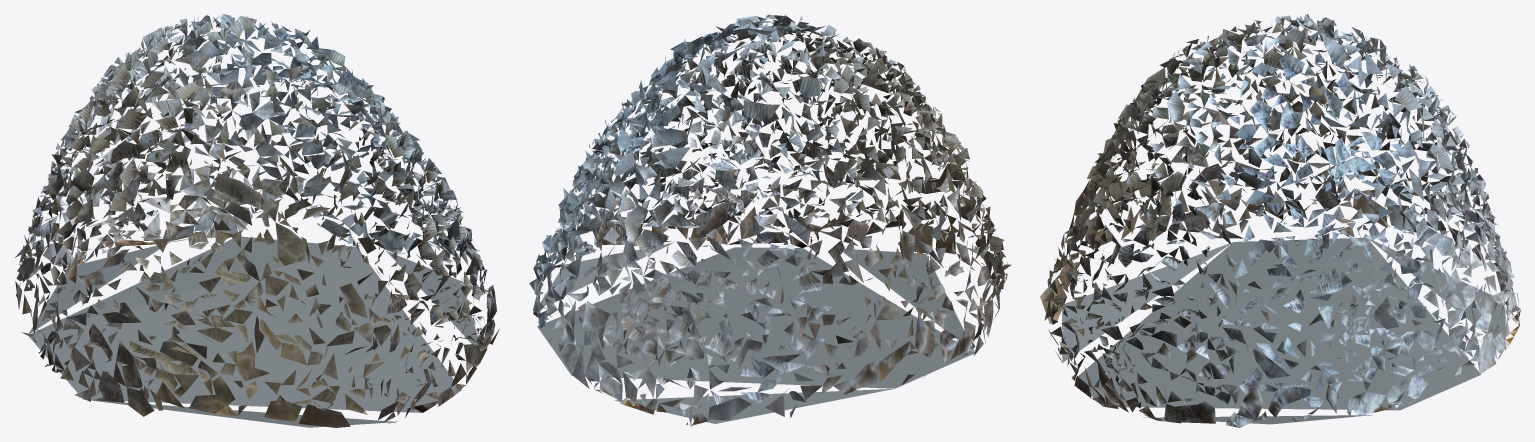
File: coral_brain.glb
The picture shows the model from 3 angles, left to right: view 1: azimuth 30°, elevation 25°; view 2: azimuth 150°, elevation 25°; view 3: azimuth 270°, elevation 25°; orthographic projection. The views are drawn at different scales.
Visible parts, largest first — view 1: Object_3; view 2: Object_3; view 3: Object_3.
Boxes of the visible parts, left/top/right/bottom form: Object_3: left=15, top=14, right=499, bottom=427; Object_3: left=529, top=14, right=1011, bottom=426; Object_3: left=1040, top=14, right=1520, bottom=427.
Bounding box in the file's own units: 0.9804 × 0.7304 × 0.9974.
1 material, 1 textured.
